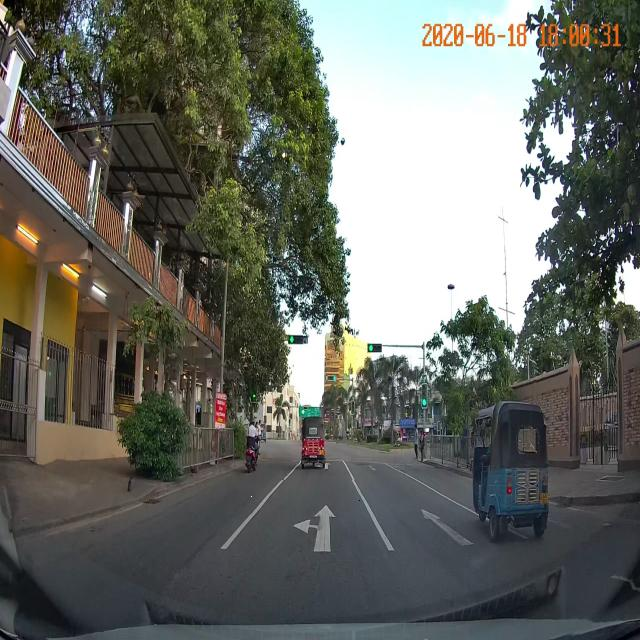forward_lft: (219, 480, 399, 558)
